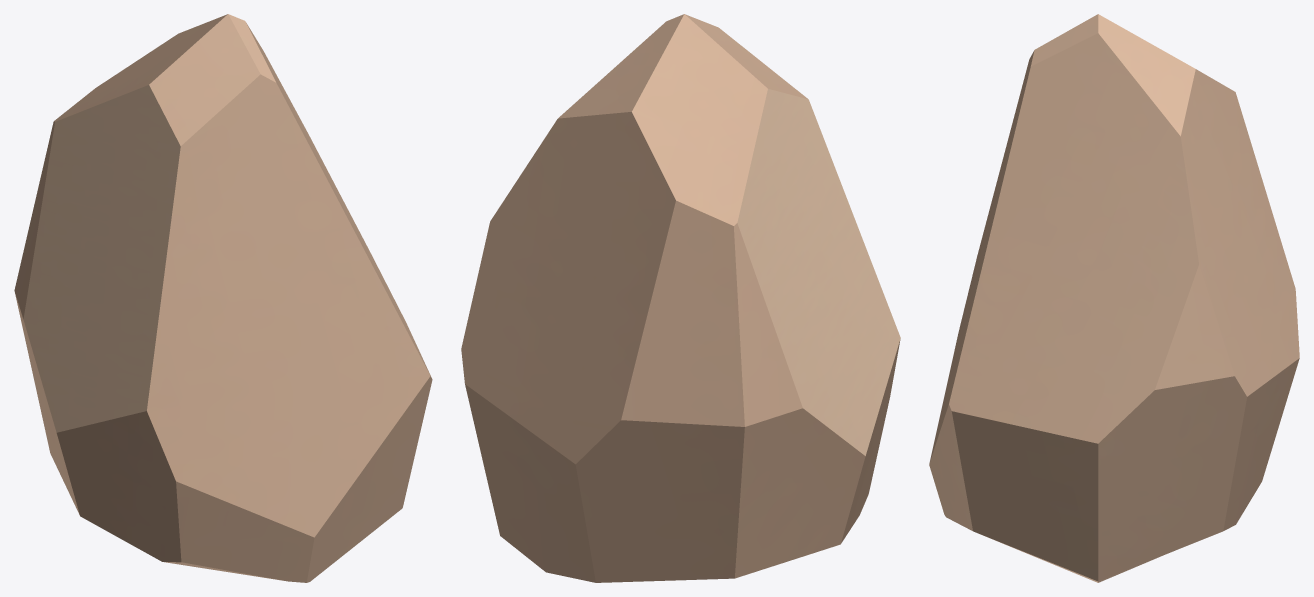
Rendered from Rock_3.fbx.
The picture shows the model from 3 angles, left to right: view 1: azimuth 30°, elevation 25°; view 2: azimuth 150°, elevation 25°; view 3: azimuth 270°, elevation 25°; orthographic projection. The views are drawn at different scales.
Visible parts, largest first — view 1: Rocher; view 2: Rocher; view 3: Rocher.
Boxes of the visible parts, left/top/right/bottom form: Rocher: left=14, top=14, right=432, bottom=582; Rocher: left=461, top=14, right=900, bottom=582; Rocher: left=929, top=14, right=1299, bottom=582.
Bounding box in the file's own units: 0.3349 × 0.4755 × 0.314.
